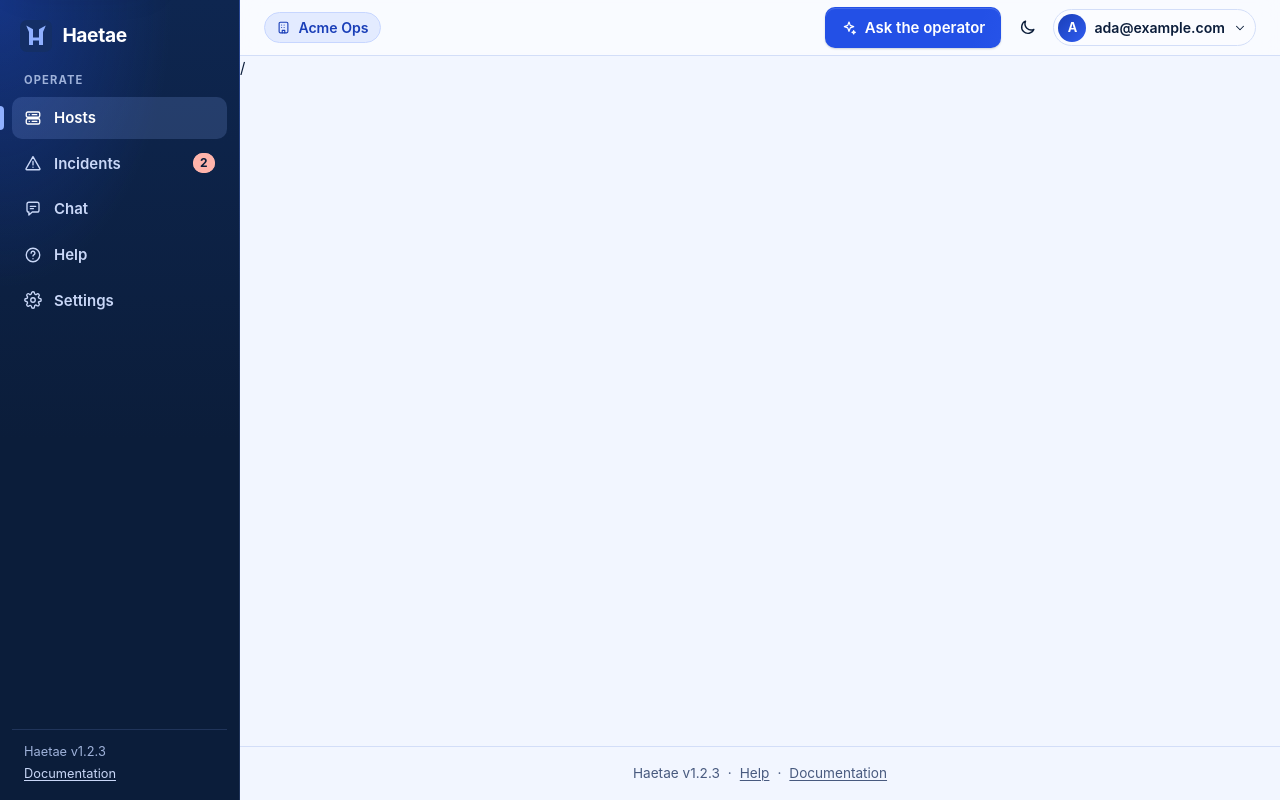
Test: Layout › opens the chat from the Ask the operator button
The image size is (1280, 800).
Click the button "Ask the operator": (913,28) top-left (824, 7), bottom-right (1001, 48)
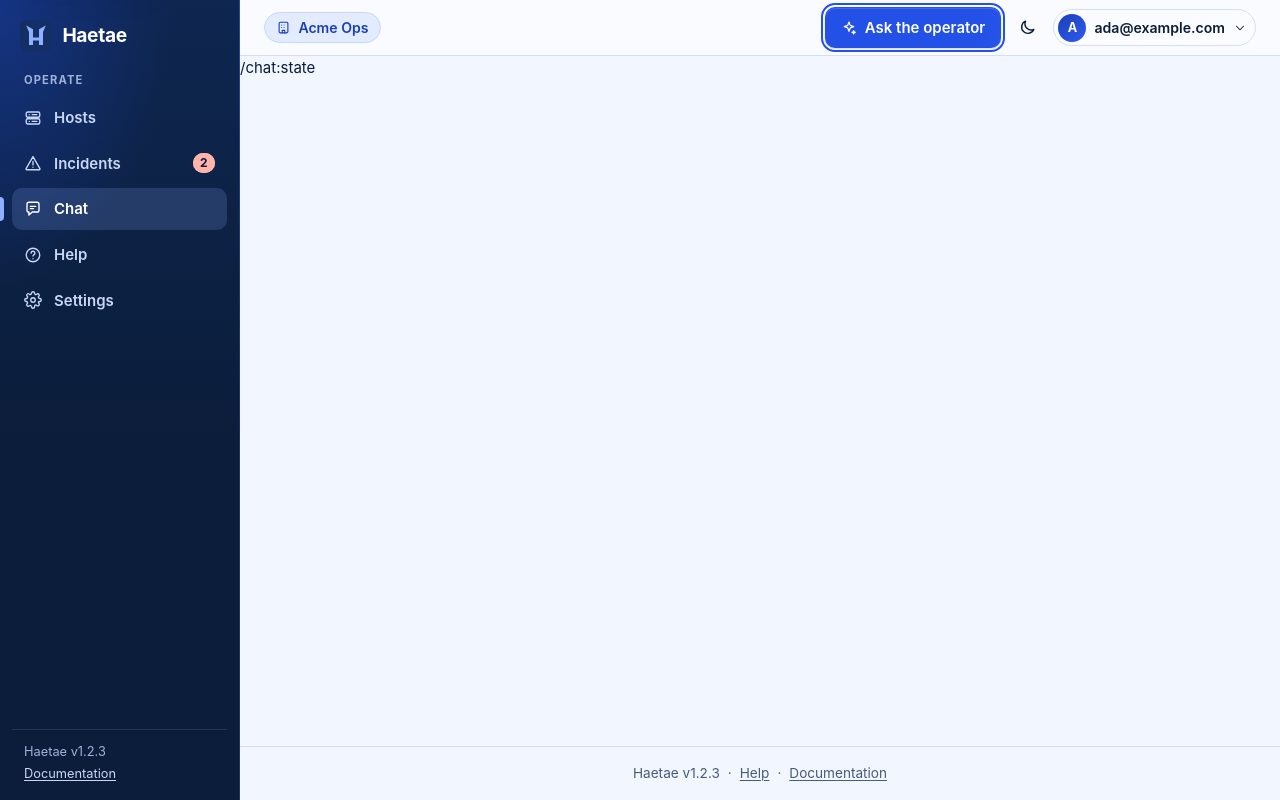
Expected: the text with test id "where" reads "/chat:state", top-left (240, 58), bottom-right (315, 77)
